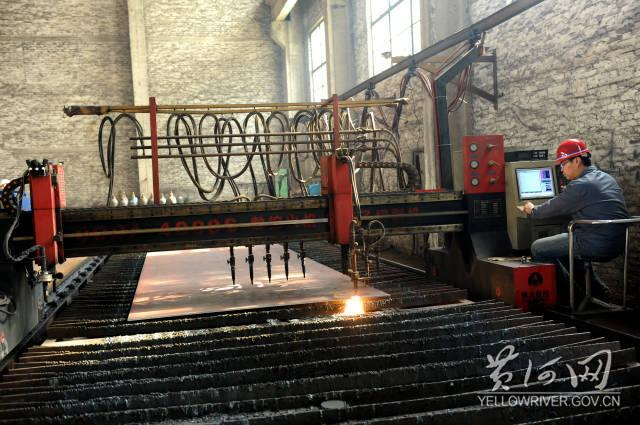helmet: (556, 140, 592, 166)
